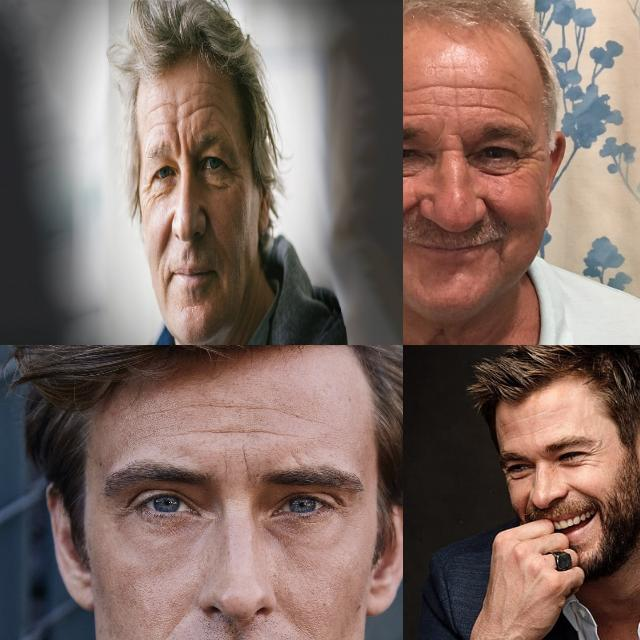crows_feet: (518, 146, 544, 170), (228, 164, 242, 188), (587, 446, 603, 466), (145, 180, 155, 208), (502, 468, 512, 488)
forehead: (227, 420, 295, 446), (160, 420, 220, 446), (210, 397, 276, 418), (183, 90, 221, 121), (152, 396, 205, 416), (478, 80, 522, 102), (150, 95, 177, 129), (438, 77, 474, 101), (470, 98, 518, 116), (435, 98, 475, 116), (403, 105, 435, 121), (403, 81, 432, 97), (523, 425, 551, 437), (498, 419, 516, 436)
frown_line: (172, 128, 192, 164), (240, 444, 256, 484), (436, 138, 462, 158)
gummy_smile: (201, 205, 218, 242), (568, 482, 594, 501), (161, 219, 173, 251), (520, 492, 532, 516)
sad_smile: (489, 240, 508, 268)
